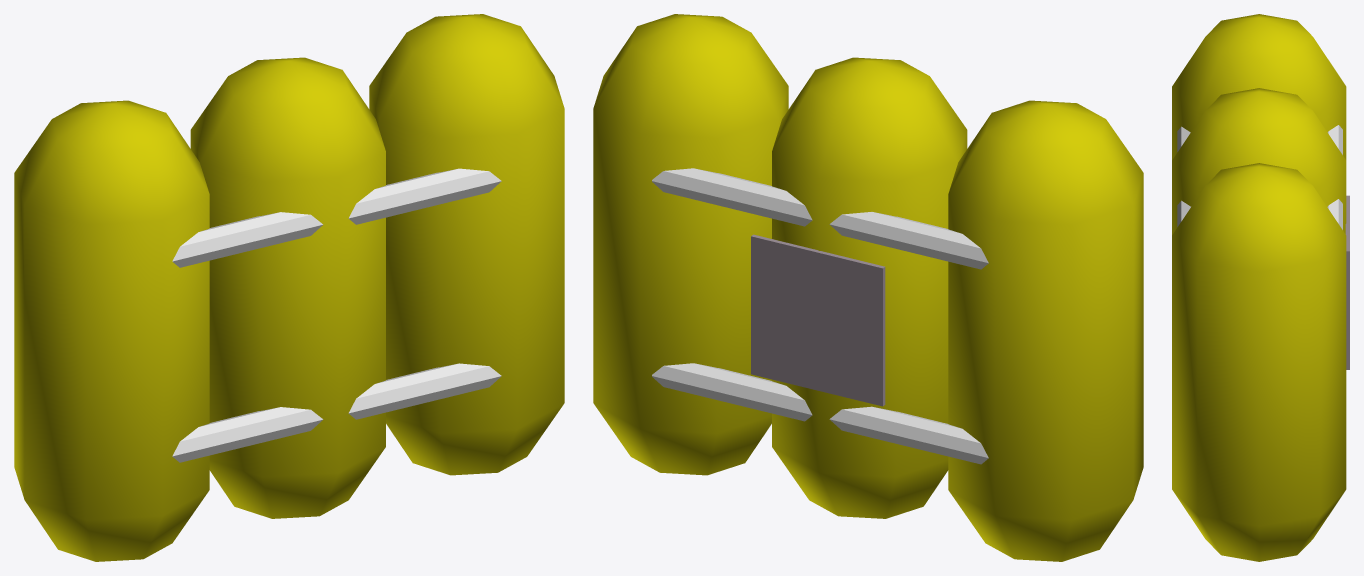
Rendered from bombole-crio.glb.
3 renders of one model, left to right at view 1: azimuth 30°, elevation 25°; view 2: azimuth 150°, elevation 25°; view 3: azimuth 270°, elevation 25°, orthographic. The views are drawn at different scales.
Parts seen in each view (by area): view 1: bombole, tubi; view 2: bombole, piastra, tubi; view 3: bombole, tubi, piastra.
Part boxes in pixels (x1,y1,x2,y2): bombole: (14, 14, 564, 561); tubi: (172, 168, 501, 462); bombole: (593, 14, 1143, 561); piastra: (751, 234, 885, 406); tubi: (652, 168, 988, 464); bombole: (1172, 14, 1346, 561); tubi: (1177, 125, 1342, 229); piastra: (1345, 195, 1349, 369).
Bounding box in the file's own units: 5.75 × 4.72 × 1.94.
